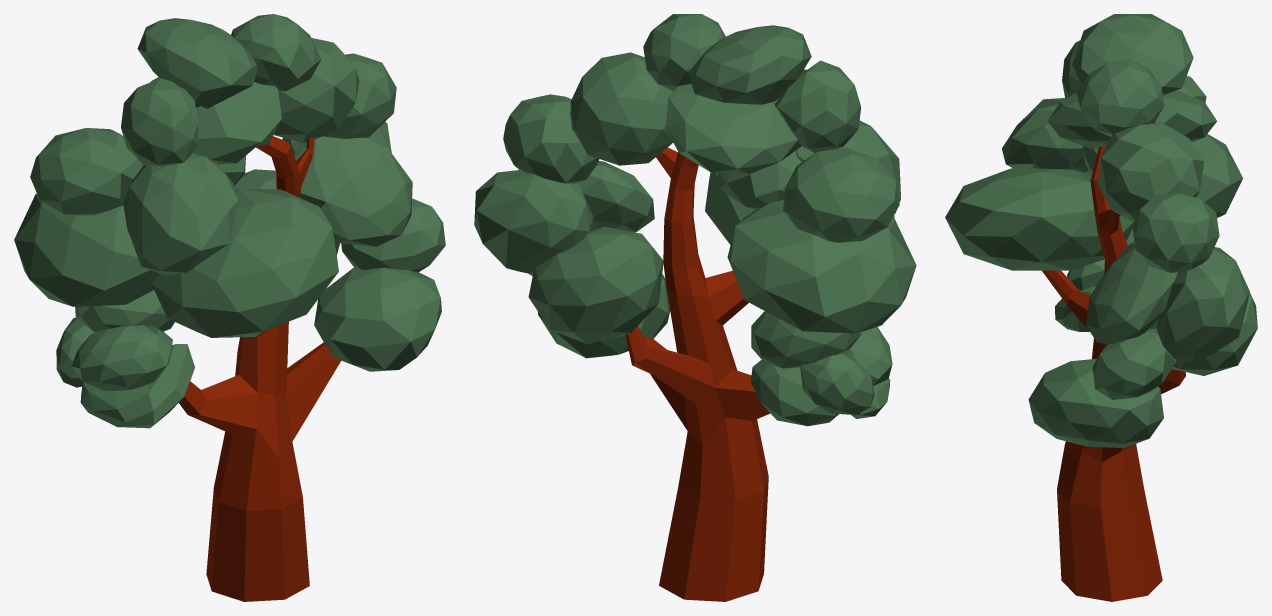
Rendered from Oak_Folhas_Verde_Medio.fbx.
The picture shows the model from 3 angles, left to right: view 1: azimuth 30°, elevation 25°; view 2: azimuth 150°, elevation 25°; view 3: azimuth 270°, elevation 25°; orthographic projection. The views are drawn at different scales.
Parts seen in each view (by area): view 1: Oak_Folhas_Verde_Medio; view 2: Oak_Folhas_Verde_Medio; view 3: Oak_Folhas_Verde_Medio.
Boxes of the visible parts, x1,y1,x2,y2 form: Oak_Folhas_Verde_Medio: (14,14,445,601); Oak_Folhas_Verde_Medio: (474,14,916,601); Oak_Folhas_Verde_Medio: (945,14,1257,601).
Size of the model in its own units: 396 by 531 by 284.
